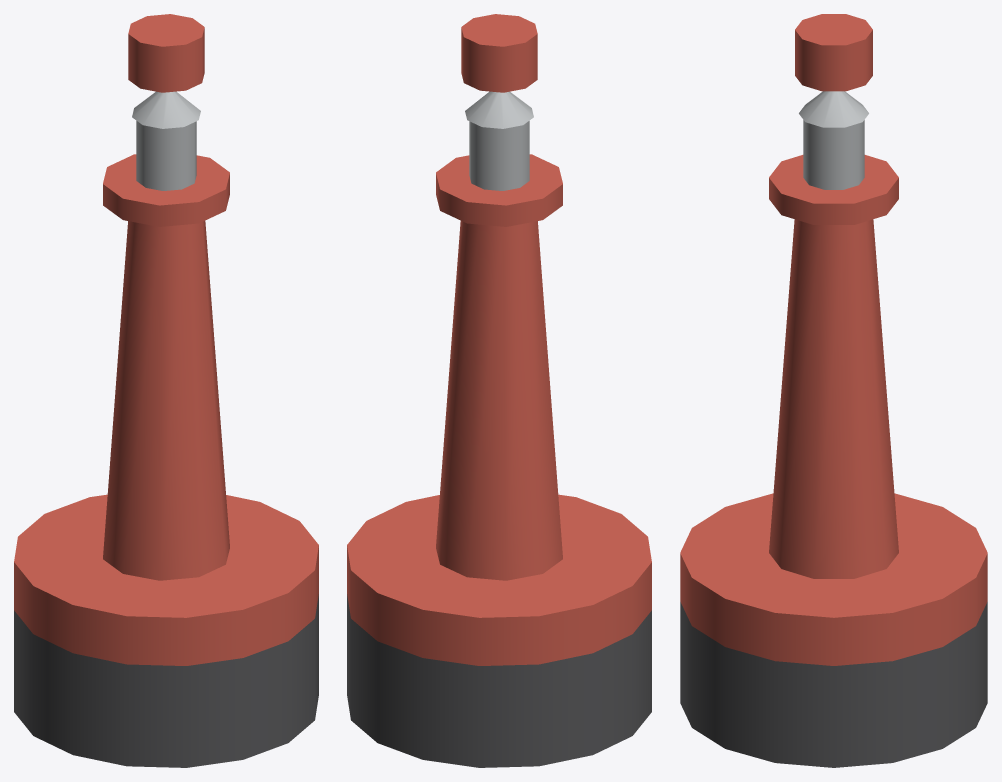
Rendered from buoy-pillar-red.glb.
The picture shows the model from 3 angles, left to right: view 1: azimuth 30°, elevation 25°; view 2: azimuth 150°, elevation 25°; view 3: azimuth 270°, elevation 25°; orthographic projection.
Parts seen in each view (by area): view 1: buoy-pillar-red; view 2: buoy-pillar-red; view 3: buoy-pillar-red.
Part boxes in pixels (<box>): buoy-pillar-red: <box>14,14,318,767</box>; buoy-pillar-red: <box>347,14,651,767</box>; buoy-pillar-red: <box>680,14,987,767</box>.
Bounding box in the file's own units: 2.6 × 6.28 × 2.6.
